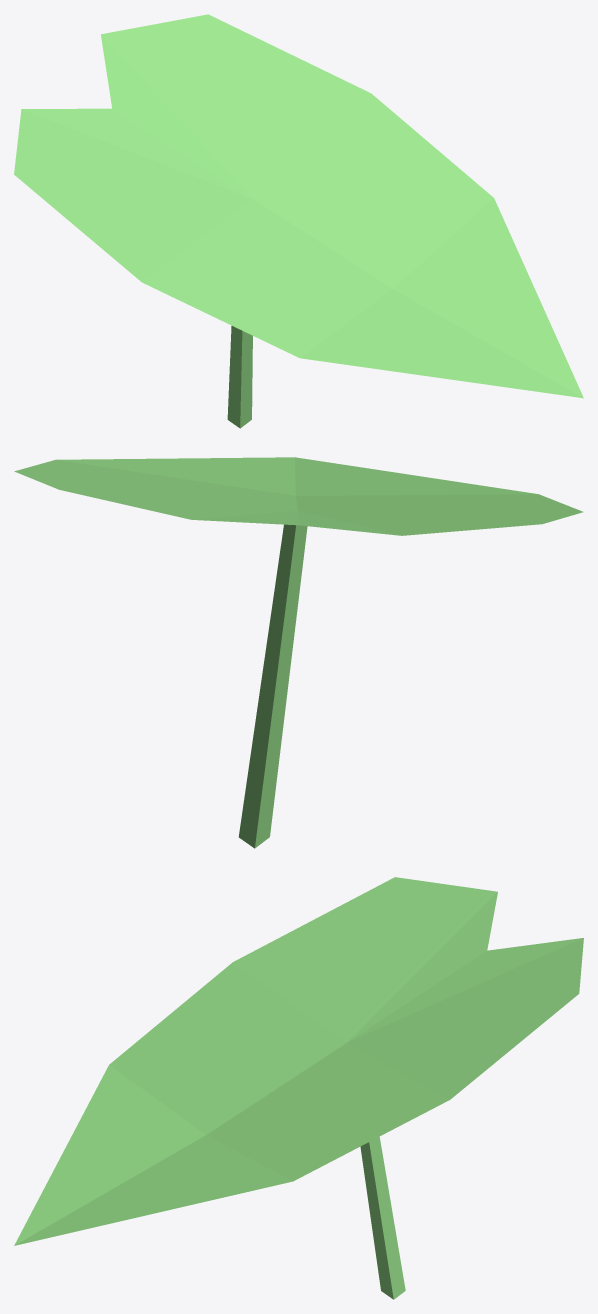
The model's file is Plant_d_OneS_01.fbx.
3 renders of one model, top to bottom at view 1: azimuth 30°, elevation 25°; view 2: azimuth 150°, elevation 25°; view 3: azimuth 270°, elevation 25°, orthographic. The views are drawn at different scales.
Parts seen in each view (by area): view 1: Plant_d_OneS_01; view 2: Plant_d_OneS_01; view 3: Plant_d_OneS_01.
Part boxes in pixels (x1,y1,x2,y2): Plant_d_OneS_01: [14, 14, 583, 428]; Plant_d_OneS_01: [14, 457, 583, 848]; Plant_d_OneS_01: [14, 877, 583, 1299].
Bounding box in the file's own units: 32.06 × 23.55 × 36.43.
